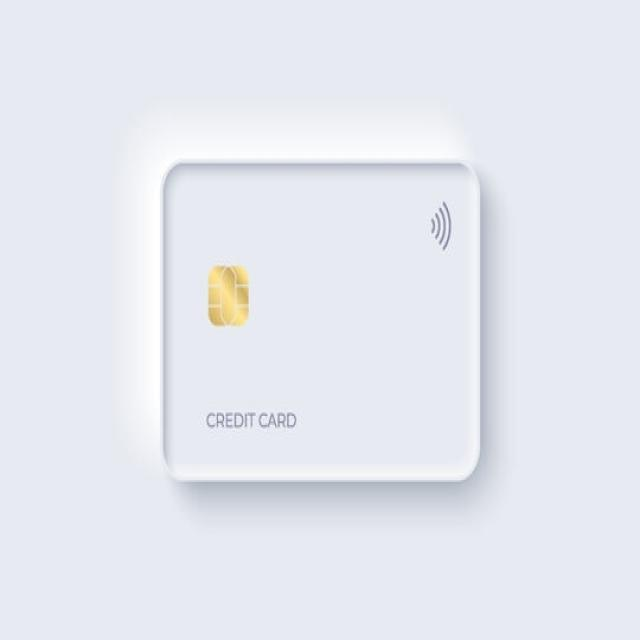payment_card: (160, 157, 482, 484)
